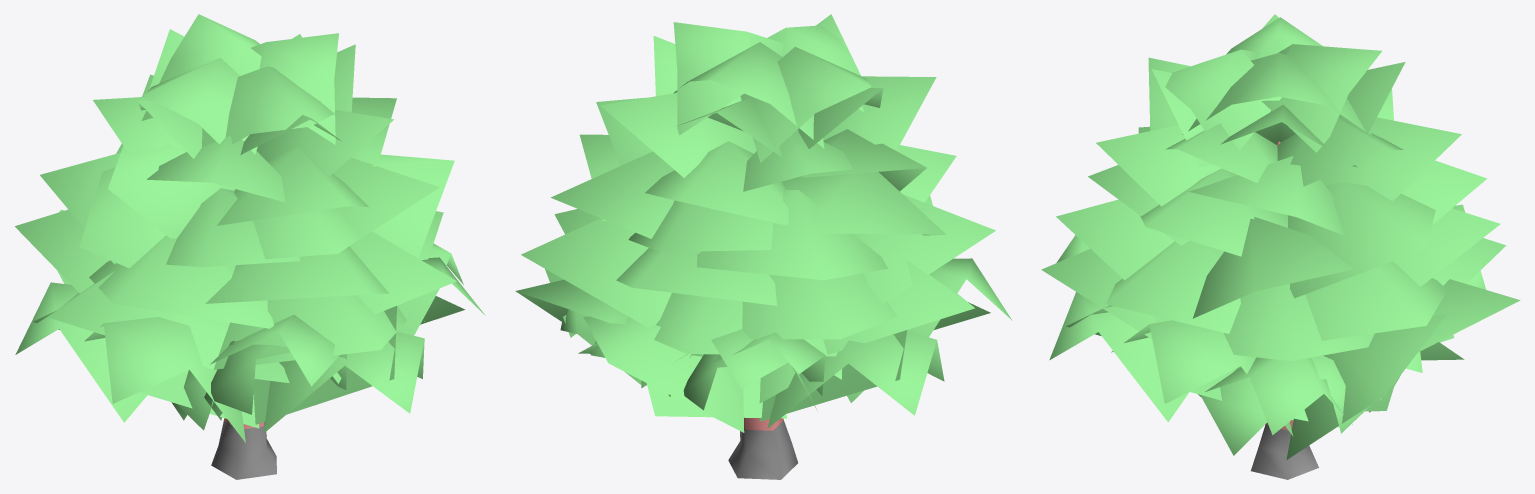
File: gludio_tree_S__Generaltree4DC.gltf
3 views of the same model, side by side, from view 1: azimuth 30°, elevation 25°; view 2: azimuth 150°, elevation 25°; view 3: azimuth 270°, elevation 25° (orthographic). The views are drawn at different scales.
Visible parts, largest first — view 1: Generaltree4DC; view 2: Generaltree4DC; view 3: Generaltree4DC.
Part boxes in pixels (left/top/right/bottom): Generaltree4DC: left=15, top=14, right=485, bottom=479; Generaltree4DC: left=515, top=14, right=1012, bottom=479; Generaltree4DC: left=1041, top=14, right=1520, bottom=479.
Bounding box in the file's own units: 8.54 × 8.27 × 8.56.
